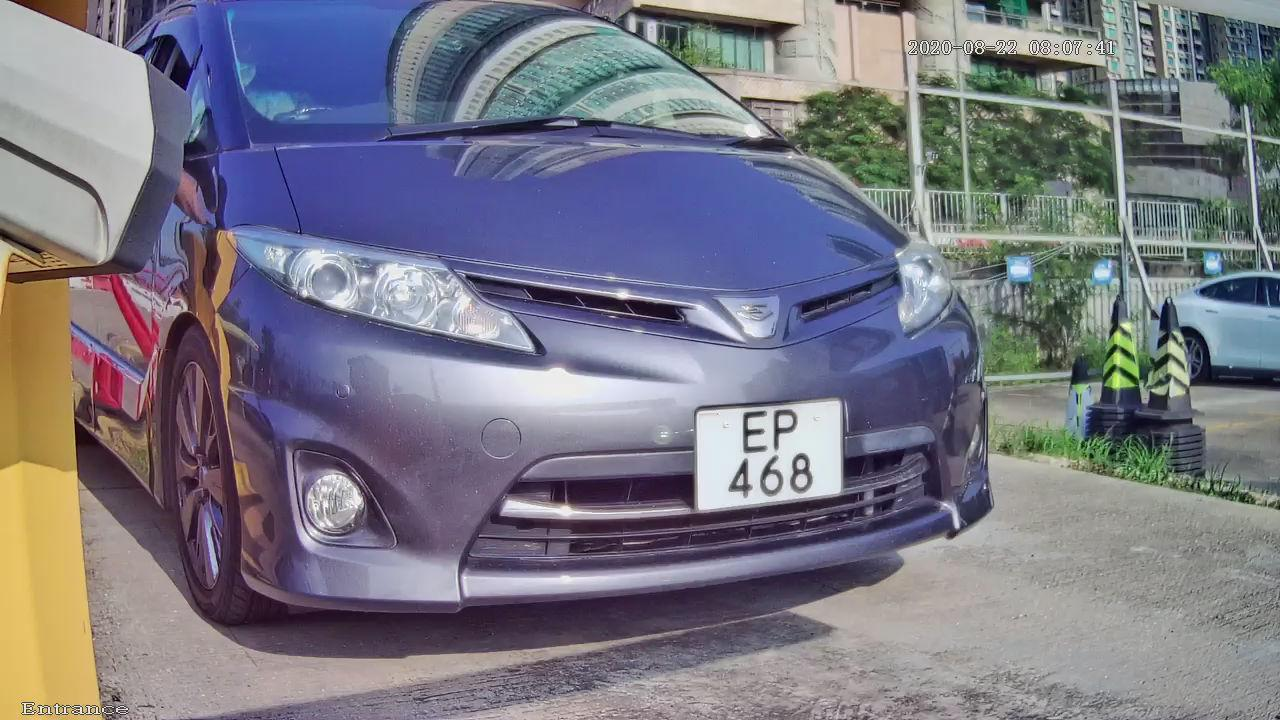Car: (86, 1, 1035, 672)
License Plate: (675, 386, 869, 524)
